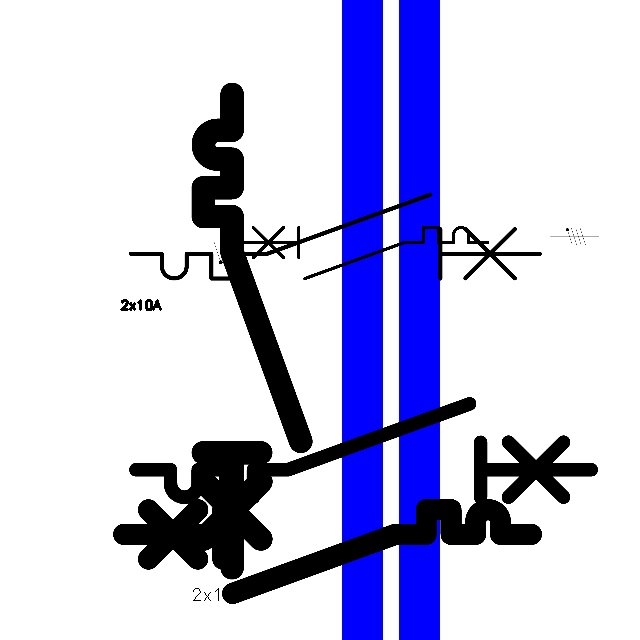interruptor_termomagnetico: (191, 82, 313, 580), (124, 392, 603, 509), (120, 184, 551, 289), (113, 499, 542, 604), (231, 221, 493, 285)
